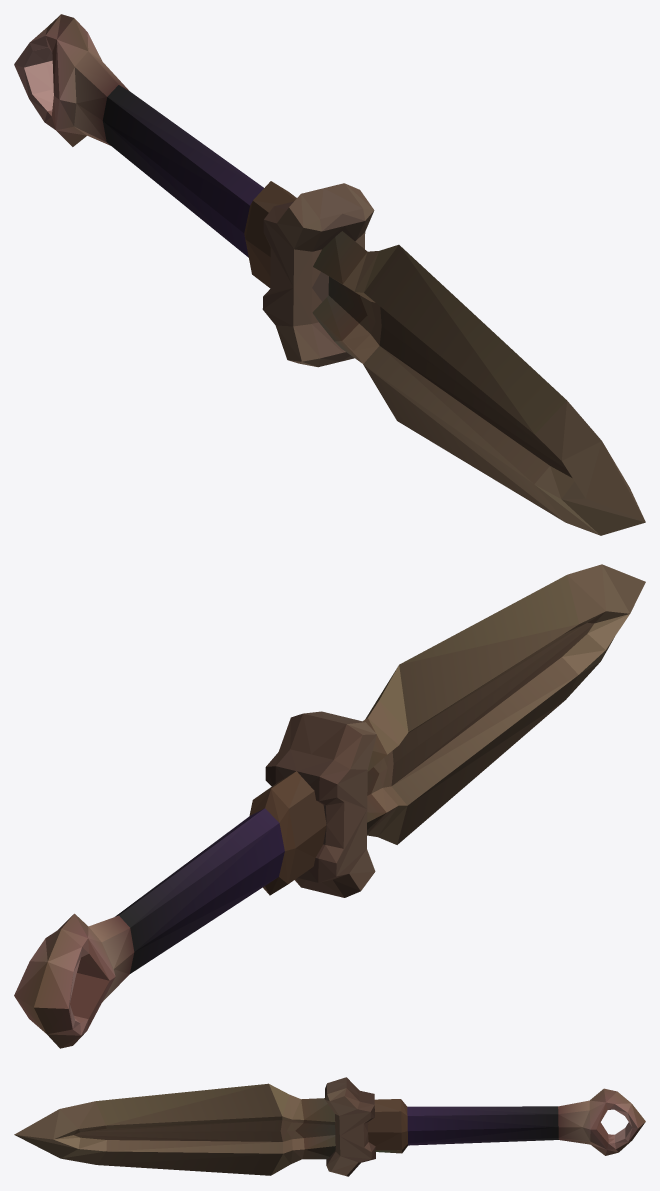
File: weapon_sword_bronze_1.fbx
The picture shows the model from 3 angles, top to bottom: view 1: azimuth 30°, elevation 25°; view 2: azimuth 150°, elevation 25°; view 3: azimuth 270°, elevation 25°; orthographic projection. The views are drawn at different scales.
Parts seen in each view (by area): view 1: weapon_sword_bronze_1; view 2: weapon_sword_bronze_1; view 3: weapon_sword_bronze_1.
Boxes of the visible parts, <box> form: weapon_sword_bronze_1: <box>14,14,645,535</box>; weapon_sword_bronze_1: <box>14,564,645,1048</box>; weapon_sword_bronze_1: <box>14,1077,645,1176</box>.
Bounding box in the file's own units: 0.1205 × 0.2895 × 1.79.
